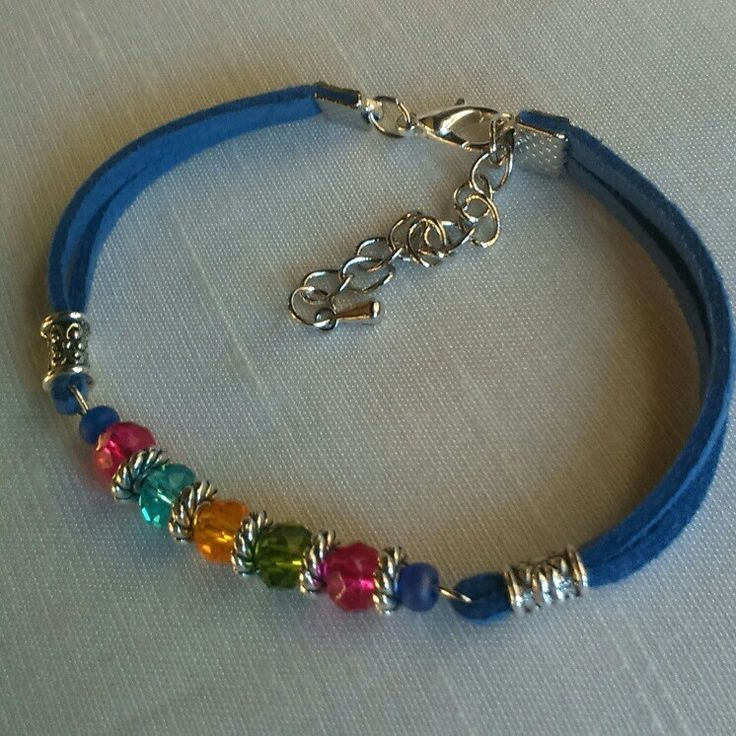gamuza: (48, 83, 735, 587)
